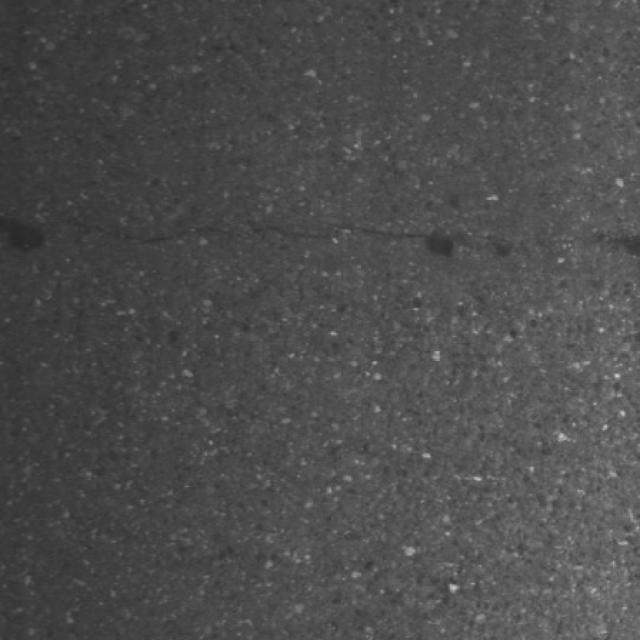Horizontal Crack: (0, 216, 637, 252)
